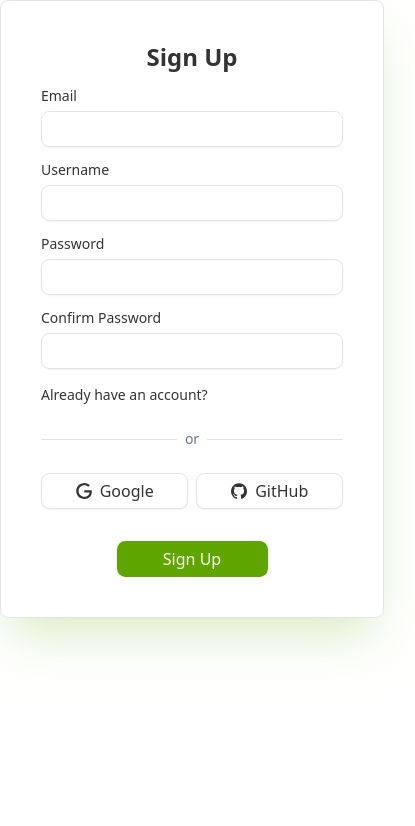
Test: SignUpForm component test › Form validation › Should show required field when submitting empty form
Click the button with test id "signUp-submit".
click(192, 559)  # box [116, 541, 268, 577]
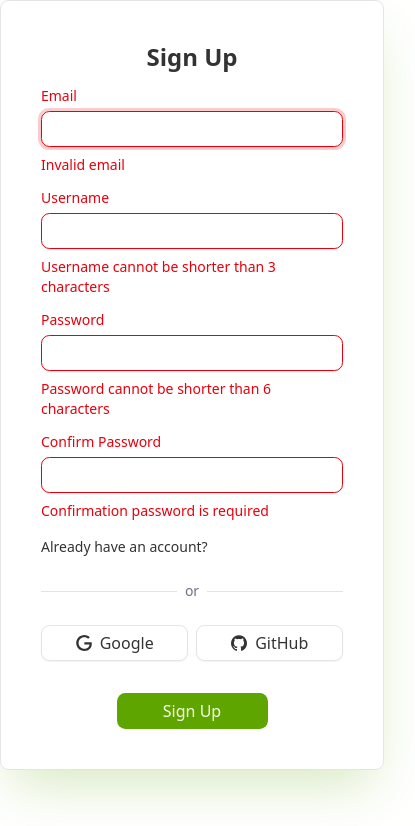
Now the text "Invalid email" is shown, box [41, 155, 125, 174]
Now the text "Username cannot be shorter than 3 characters" is shown, box [41, 257, 276, 296]
Now the text "Password cannot be shorter than 6 characters" is shown, box [41, 379, 271, 418]
